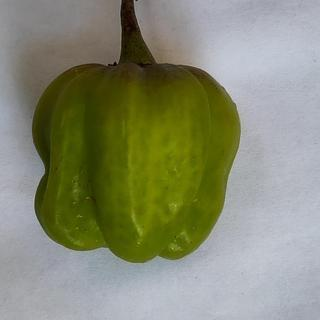Grade-B: (29, 59, 244, 265)
